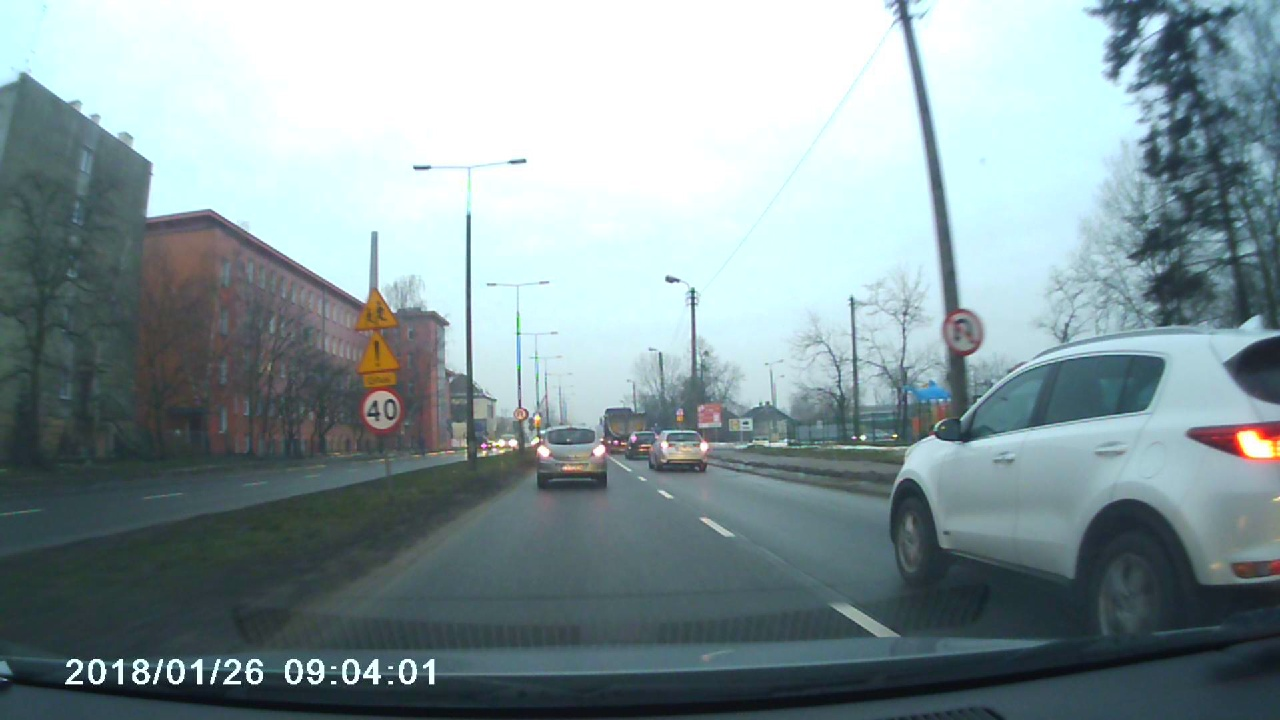A17: (350, 283, 400, 329)
A30: (349, 328, 407, 372)
B23: (940, 304, 989, 353)
B33_40: (354, 389, 410, 428)
